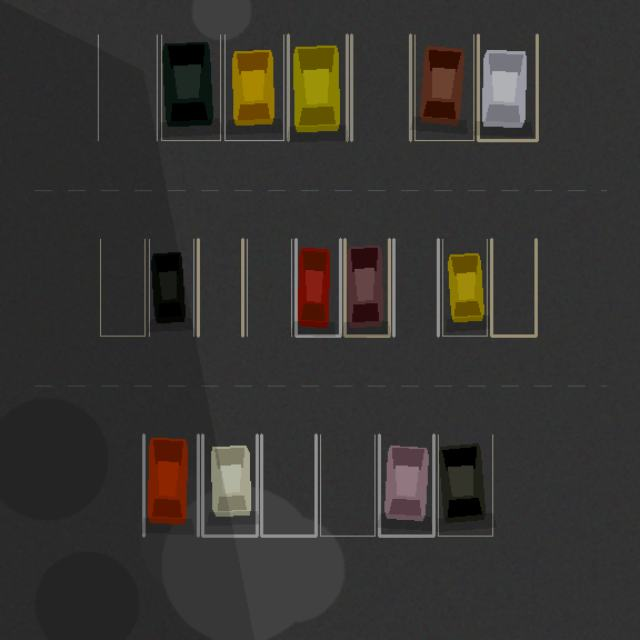space-empty: (98, 34, 157, 140), (351, 34, 410, 140), (261, 434, 316, 536), (320, 434, 374, 536), (393, 239, 438, 336), (491, 239, 536, 336), (100, 239, 144, 336), (198, 239, 242, 336), (247, 239, 291, 336)
space-occupied: (161, 34, 220, 140), (224, 34, 283, 140), (288, 34, 347, 140), (414, 34, 473, 140), (478, 34, 537, 140), (143, 434, 198, 536), (202, 434, 257, 536), (379, 434, 433, 536), (438, 434, 492, 536), (344, 239, 389, 336), (442, 239, 487, 336), (149, 239, 193, 336), (296, 239, 340, 336)
